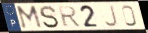0: (121, 5, 138, 27)
2: (80, 3, 102, 29)
J: (104, 5, 120, 28)
M: (15, 4, 44, 30)
R: (56, 5, 82, 28)
S: (39, 5, 61, 30)
